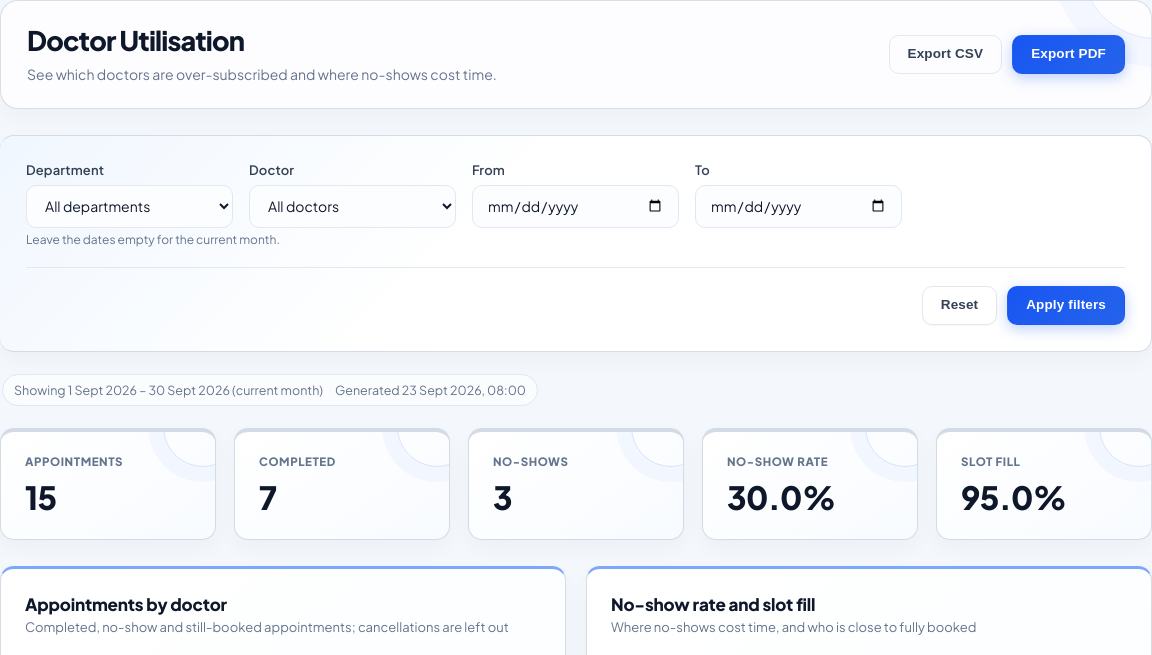
Test case: UtilisationReportPage (SCRUM-38) › resets to the current month
The width and height of the screenshot is (1152, 655).
Expected: the text "Showing 1 Sept 2026 – 30 Sept 2026 (current month)" is shown, [14, 382, 323, 398]
Type "2026-07-10" into the date field labelled "From" at (576, 206), box [472, 185, 679, 228]
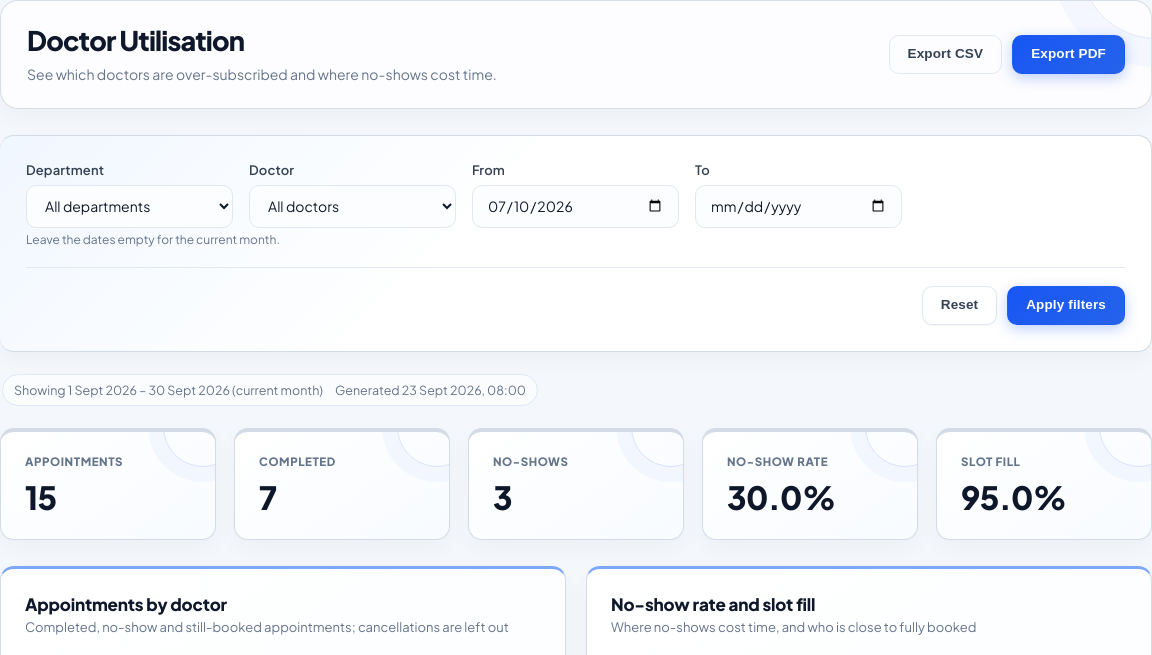
Click the button "Apply filters" at (1066, 305), box [1007, 286, 1125, 325]
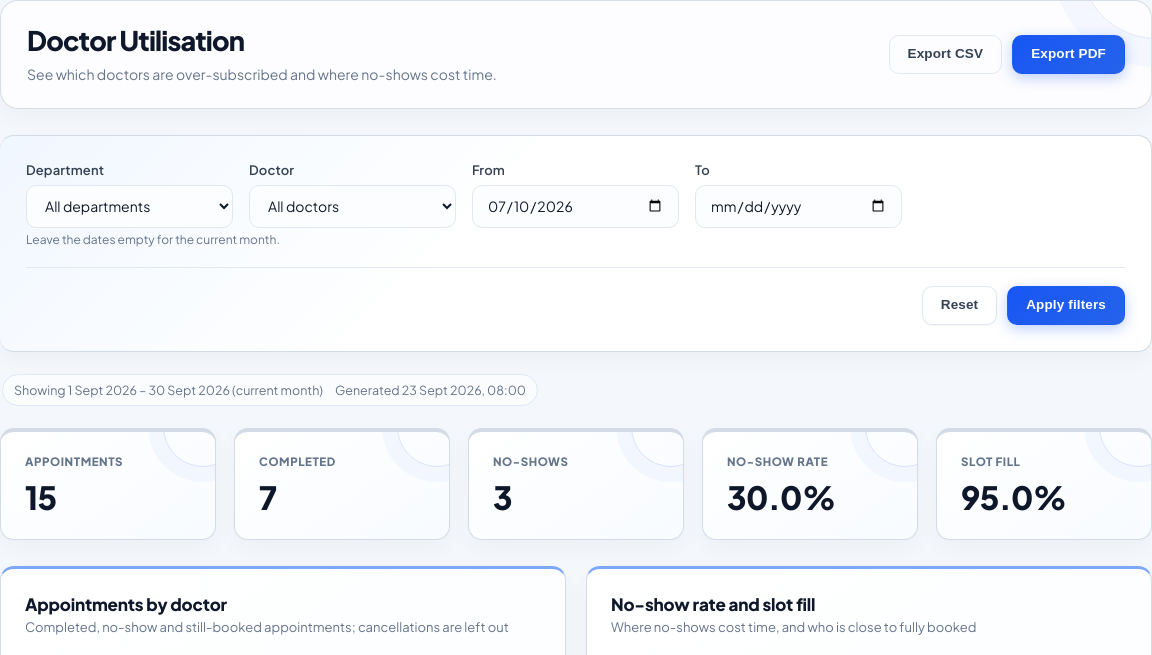
Expected: the text "Showing 1 Sept 2026 – 30 Sept 2026 (current month)" is shown, [14, 382, 323, 398]
Click the button "Reset" at (960, 305), box [922, 286, 997, 325]
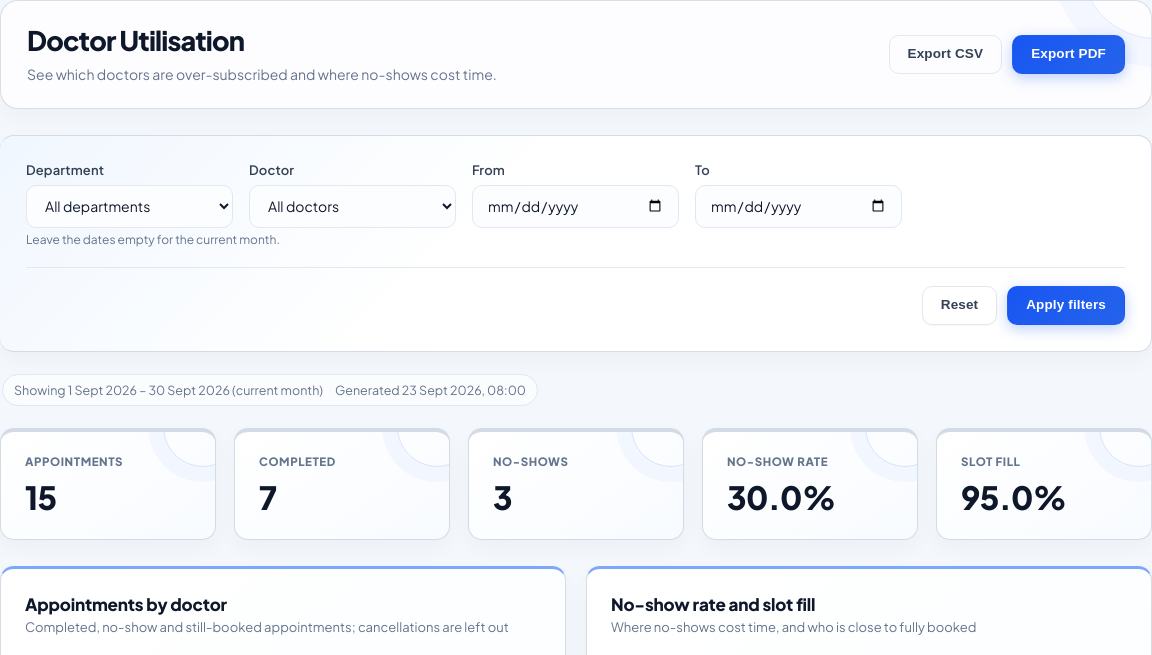
Expected: the date field labelled "From" is empty, [472, 185, 679, 228]
